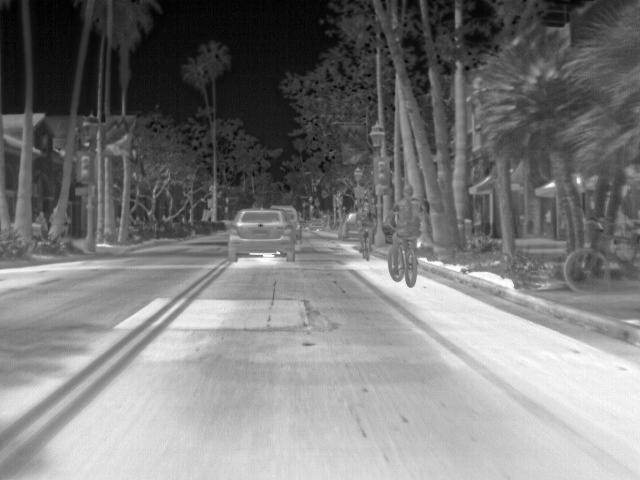car: (225, 208, 296, 261), (267, 205, 304, 243), (340, 211, 360, 237), (306, 218, 326, 230)
person: (392, 186, 422, 272), (356, 200, 377, 244), (35, 210, 49, 234), (48, 207, 60, 225)
